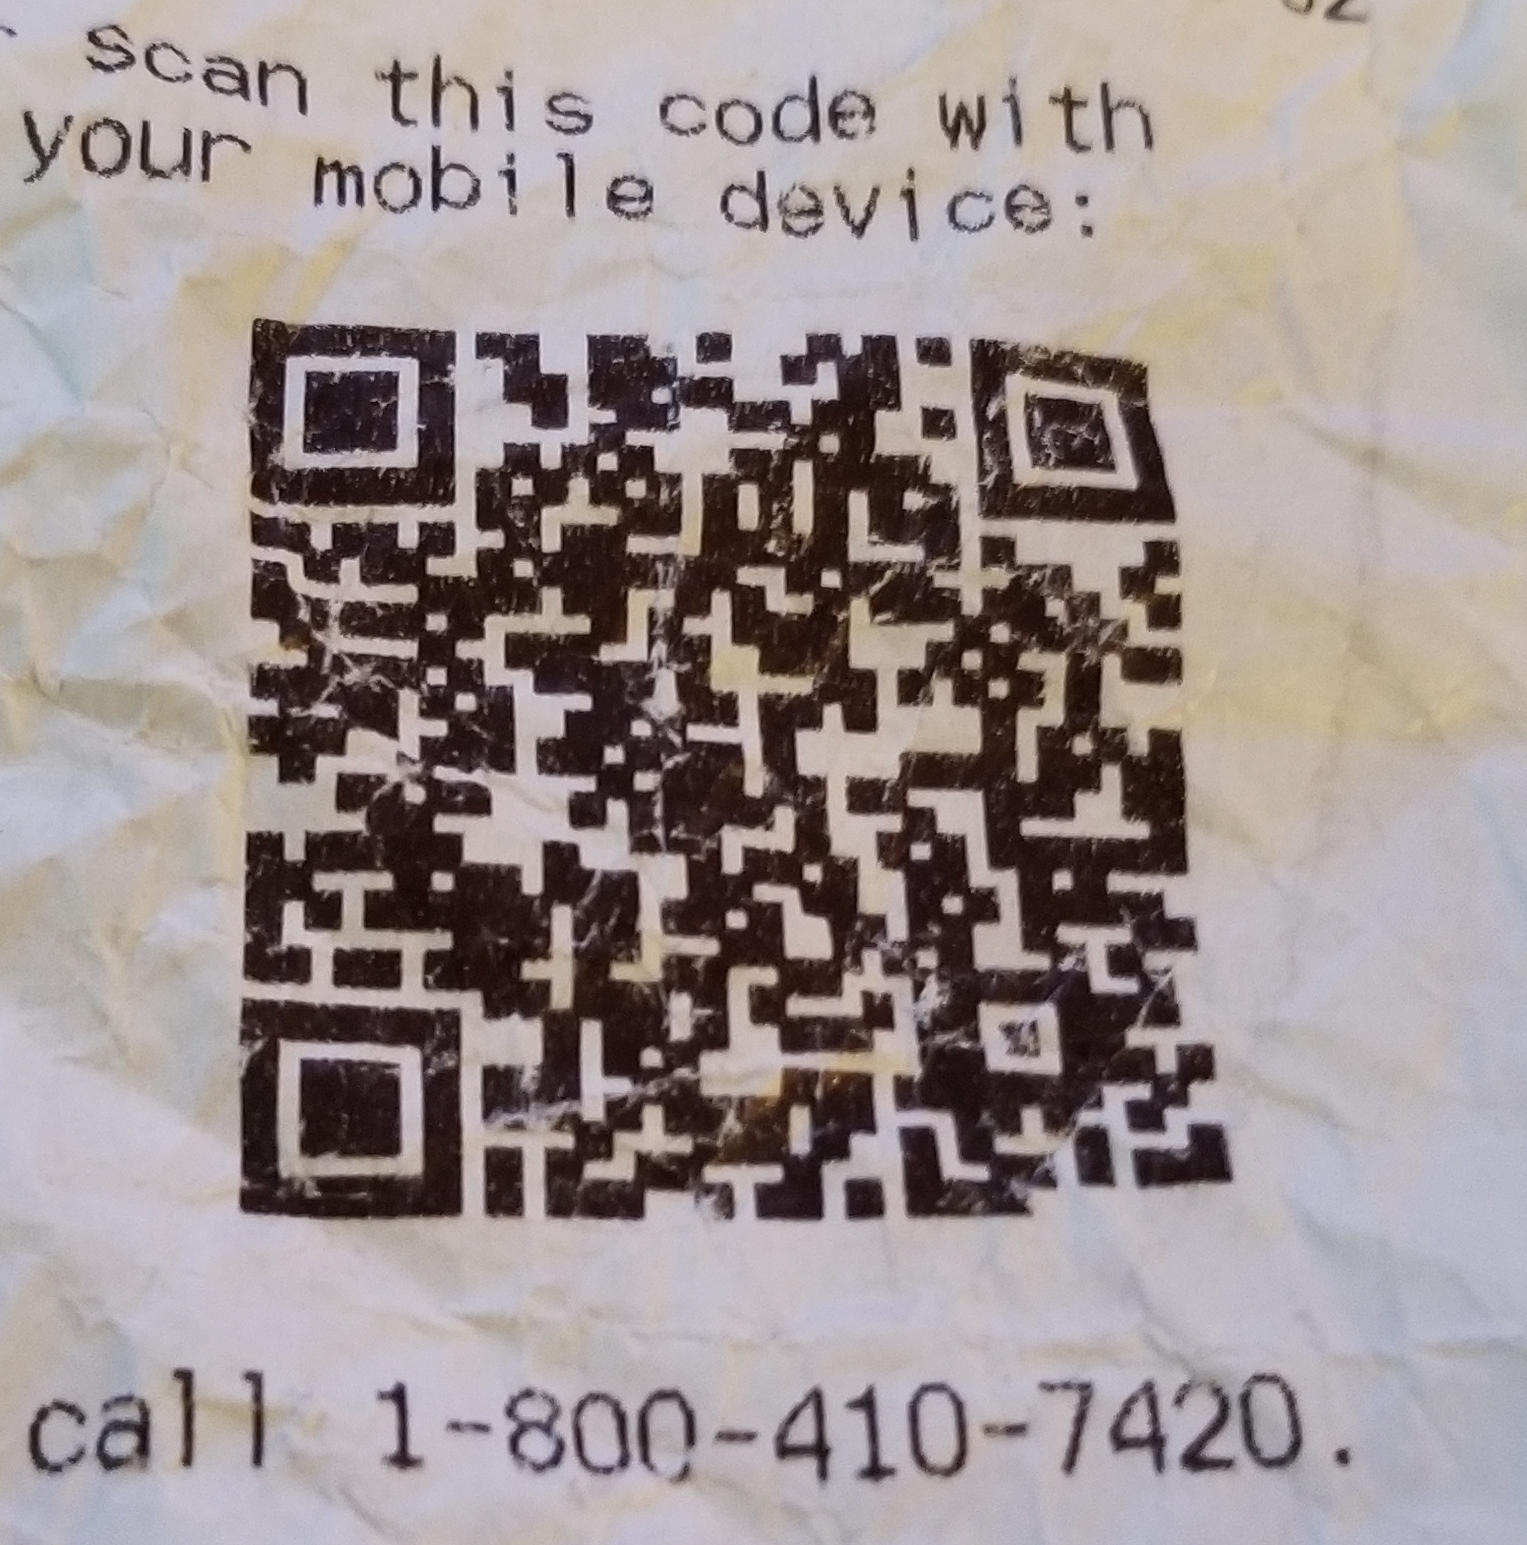QR_CODE: (201, 267, 1279, 1244)
